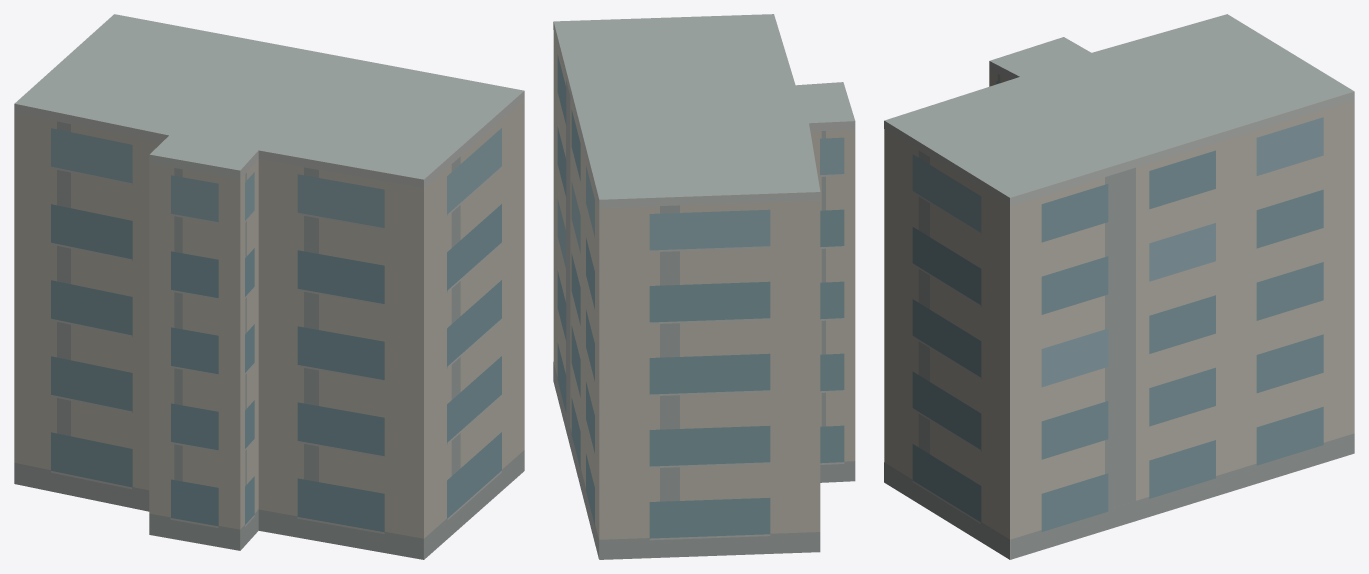
Rendered from survey-upis-32800995.glb.
3 views of the same model, side by side, from view 1: azimuth 30°, elevation 25°; view 2: azimuth 150°, elevation 25°; view 3: azimuth 270°, elevation 25° (orthographic). The views are drawn at different scales.
Visible parts, largest first — view 1: survey-upis-32800995.tmp; view 2: survey-upis-32800995.tmp; view 3: survey-upis-32800995.tmp.
Part boxes in pixels (box(x1,y1,x2,y2)): survey-upis-32800995.tmp: box(14, 14, 524, 559); survey-upis-32800995.tmp: box(553, 14, 855, 559); survey-upis-32800995.tmp: box(884, 14, 1354, 559).
Bounding box in the file's own units: 11.29 × 10.35 × 12.2.
